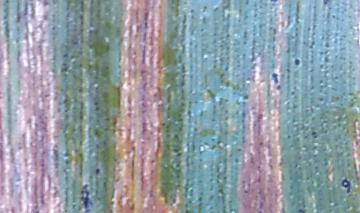tarspot: (79, 182, 92, 213), (340, 178, 352, 196), (59, 61, 72, 74), (270, 72, 280, 85), (292, 56, 302, 67), (240, 93, 250, 101), (271, 43, 278, 54), (310, 130, 318, 139), (94, 167, 101, 176), (296, 207, 306, 213), (274, 84, 282, 91), (271, 27, 278, 35), (321, 1, 332, 6), (279, 20, 285, 28), (267, 1, 281, 4), (160, 121, 166, 127), (271, 35, 276, 42)
